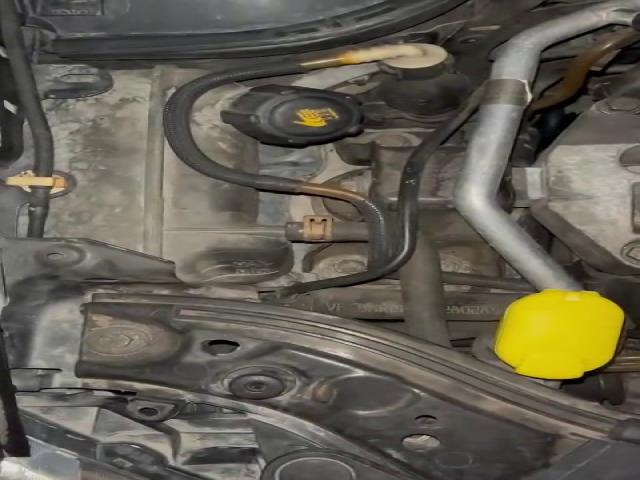antifreeze_tank: (44, 67, 297, 285), (192, 83, 360, 173)
